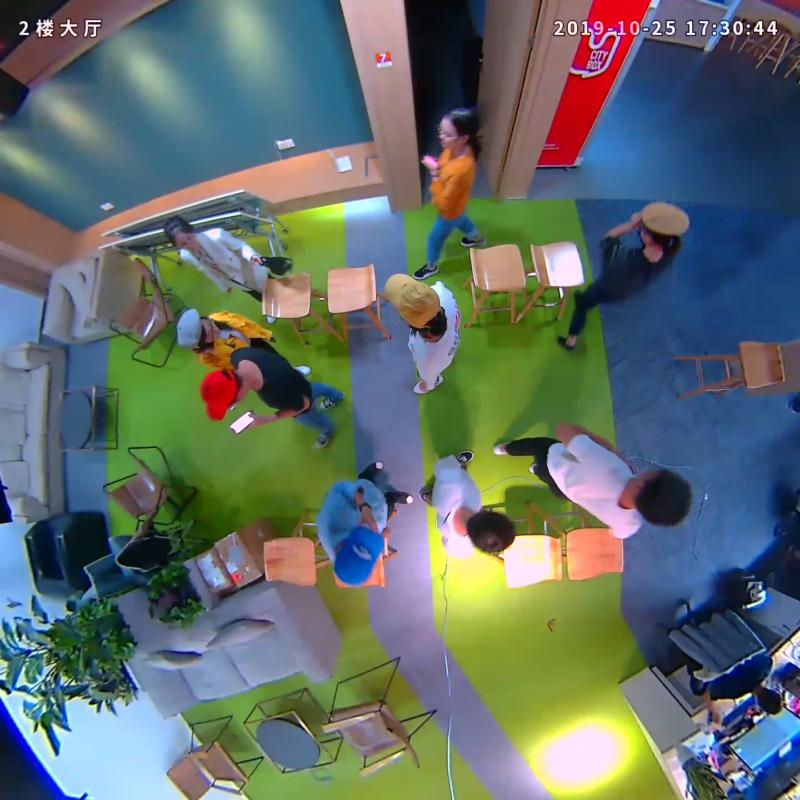head: (382, 273, 444, 331), (633, 467, 691, 527), (331, 524, 386, 586), (200, 367, 248, 421), (638, 201, 691, 246), (466, 509, 515, 554), (176, 308, 221, 350), (437, 107, 477, 148), (161, 215, 198, 252)
